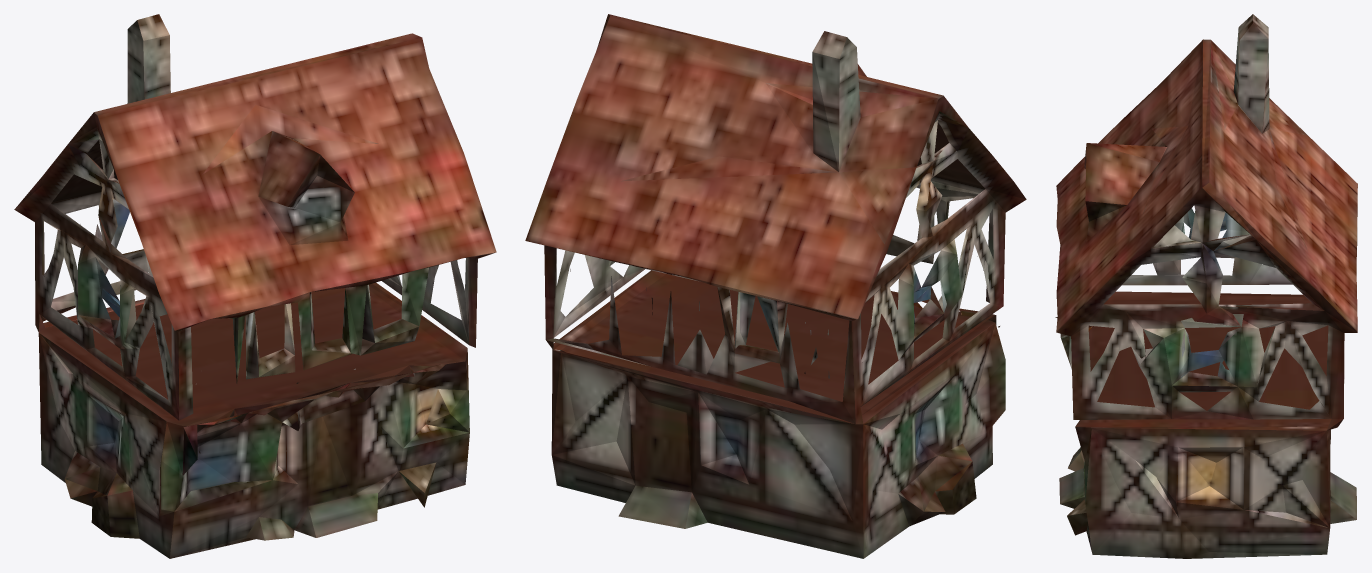
Rendered from village_house_b_4_lod2.glb.
3 renders of one model, left to right at view 1: azimuth 30°, elevation 25°; view 2: azimuth 150°, elevation 25°; view 3: azimuth 270°, elevation 25°, orthographic. The views are drawn at different scales.
Parts seen in each view (by area): view 1: lod; view 2: lod; view 3: lod.
Part boxes in pixels (left/top/right/bottom): lod: left=14, top=14, right=496, bottom=558; lod: left=525, top=14, right=1026, bottom=558; lod: left=1055, top=14, right=1357, bottom=558.
Size of the model in its own units: 7.85 by 10.32 by 6.52.
1 material, 1 textured.
